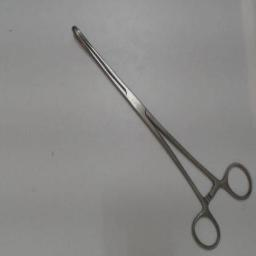Sponge Forceps: (65, 16, 255, 254)
